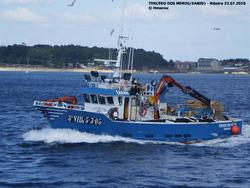otherboat: (33, 35, 244, 141)
